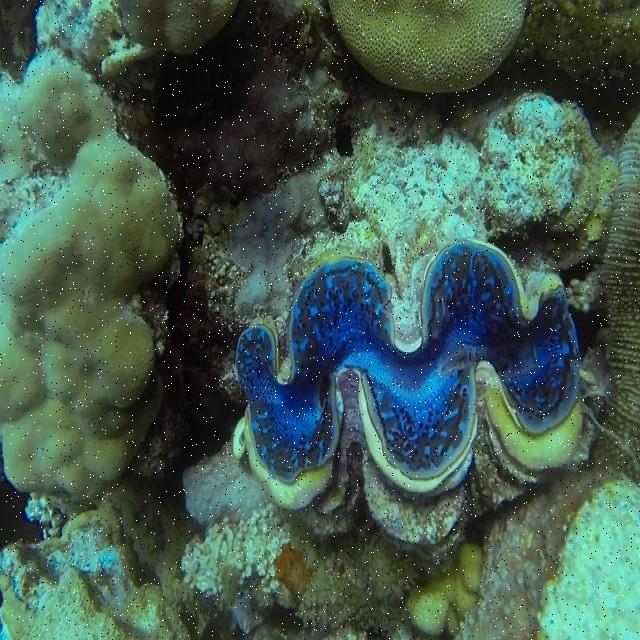reefs: (232, 239, 582, 576), (0, 48, 179, 503), (328, 0, 527, 94)
